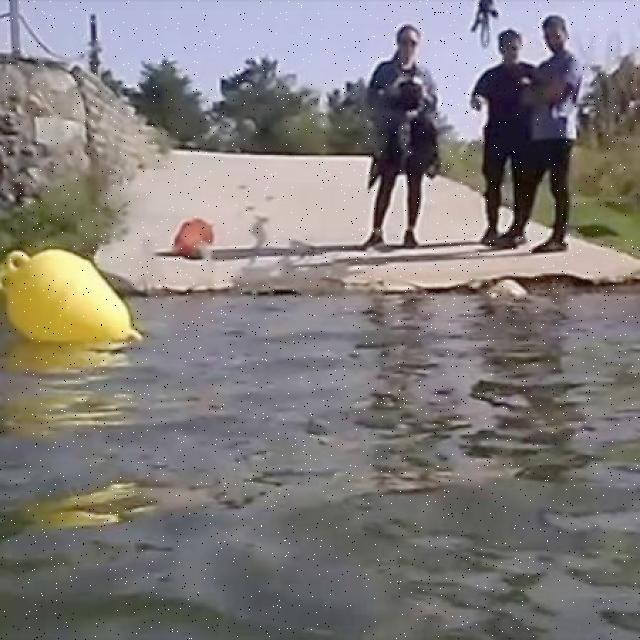buoy: (0, 238, 142, 348)
